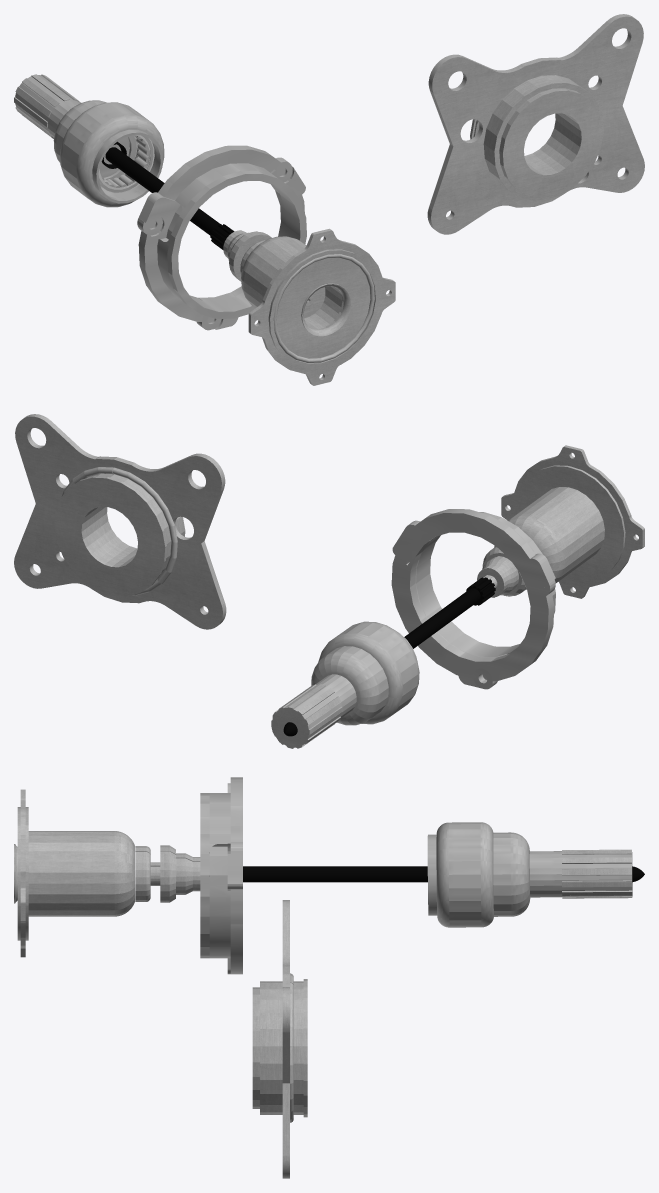
The picture shows the model from 3 angles, top to bottom: view 1: azimuth 30°, elevation 25°; view 2: azimuth 150°, elevation 25°; view 3: azimuth 270°, elevation 25°; orthographic projection. The views are drawn at different scales.
Parts seen in each view (by area): view 1: 1.008, slongsong, 1.001, 1.003, 1.002, 2.001; view 2: 1.008, slongsong, 1.001, 1.003; view 3: slongsong, 1.003, 1.008, 1.001.
Boxes of the visible parts, x1,y1,x2,y2 form: 1.008: [427, 14, 644, 234]; slongsong: [101, 141, 395, 385]; 1.001: [137, 145, 306, 330]; 1.003: [14, 74, 164, 207]; 1.002: [99, 135, 153, 192]; 2.001: [100, 135, 136, 180]; 1.008: [14, 414, 226, 629]; slongsong: [283, 445, 644, 736]; 1.001: [391, 509, 555, 689]; 1.003: [271, 621, 419, 748]; slongsong: [14, 789, 644, 957]; 1.003: [427, 822, 632, 927]; 1.008: [252, 900, 307, 1178]; 1.001: [200, 777, 242, 974].
Bounding box in the file's own units: 936 × 321 × 921.
13 materials, 8 textured.
